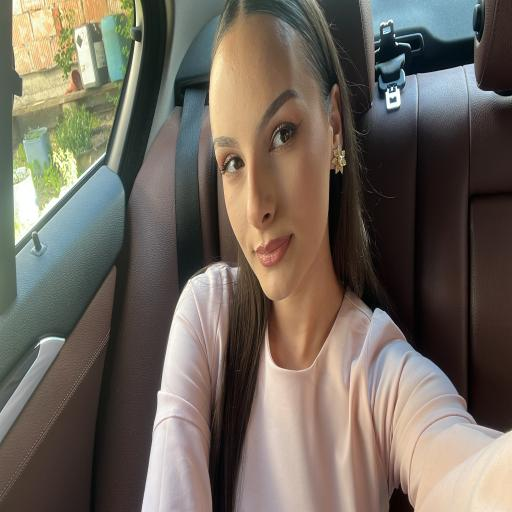marija: (208, 16, 333, 302)
